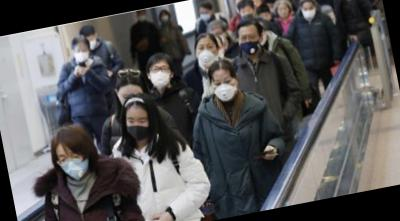with_mask: (55, 147, 93, 184), (123, 112, 153, 144), (210, 74, 240, 105), (236, 30, 263, 58), (148, 62, 174, 91), (194, 40, 219, 67), (73, 46, 92, 64), (300, 4, 317, 23), (86, 35, 99, 51), (198, 9, 212, 22), (161, 11, 170, 22), (138, 13, 147, 22)
without_mask: (276, 4, 290, 19)
